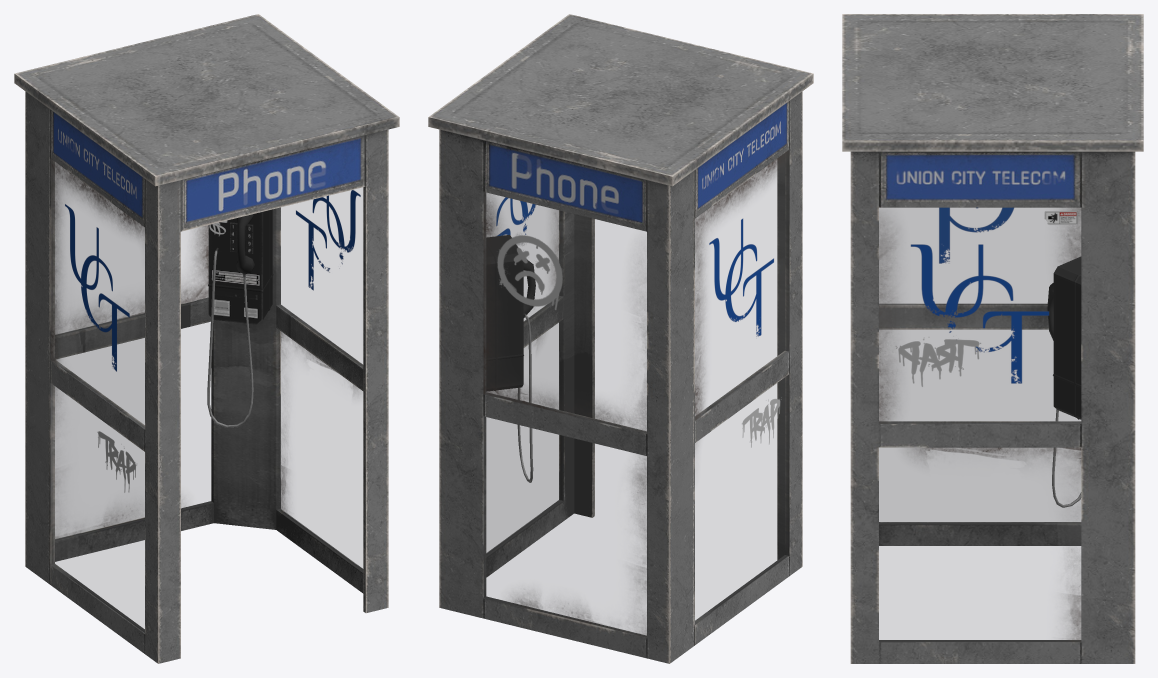
Rendered from phone_booth_lowpoly.glb.
3 renders of one model, left to right at view 1: azimuth 30°, elevation 25°; view 2: azimuth 150°, elevation 25°; view 3: azimuth 270°, elevation 25°, orthographic. The views are drawn at different scales.
Parts seen in each view (by area): view 1: phoneBooth, defaultMaterial; view 2: phoneBooth, defaultMaterial; view 3: phoneBooth, defaultMaterial.
Part boxes in pixels (box(x1,y1,x2,y2)): phoneBooth: box(14, 14, 399, 663); defaultMaterial: box(50, 159, 362, 632); phoneBooth: box(428, 14, 813, 663); defaultMaterial: box(483, 150, 789, 637); phoneBooth: box(842, 14, 1143, 663); defaultMaterial: box(879, 207, 1081, 642).
Bounding box in the file's own units: 1060 × 2040 × 1060.
Materials: 2 (2 with a texture image).
